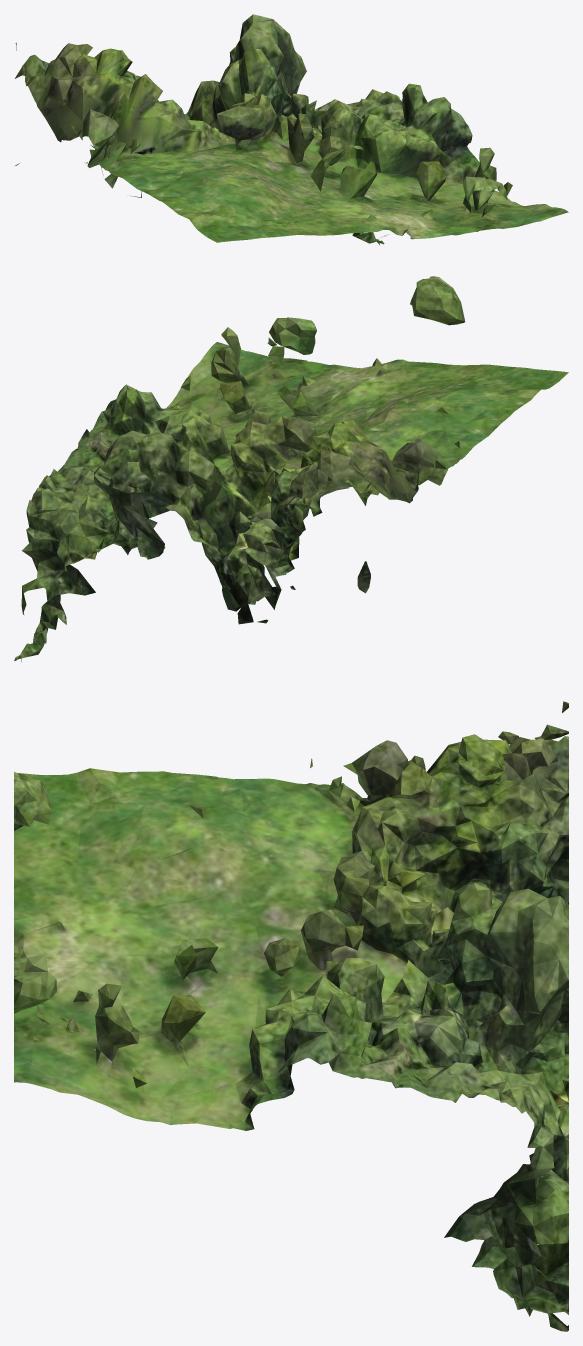
3 renders of one model, top to bottom at view 1: azimuth 30°, elevation 25°; view 2: azimuth 150°, elevation 25°; view 3: azimuth 270°, elevation 25°, orthographic. The views are drawn at different scales.
Bounding box in the file's own units: 52.22 × 42.75 × 52.22.
5 materials, 5 textured.
